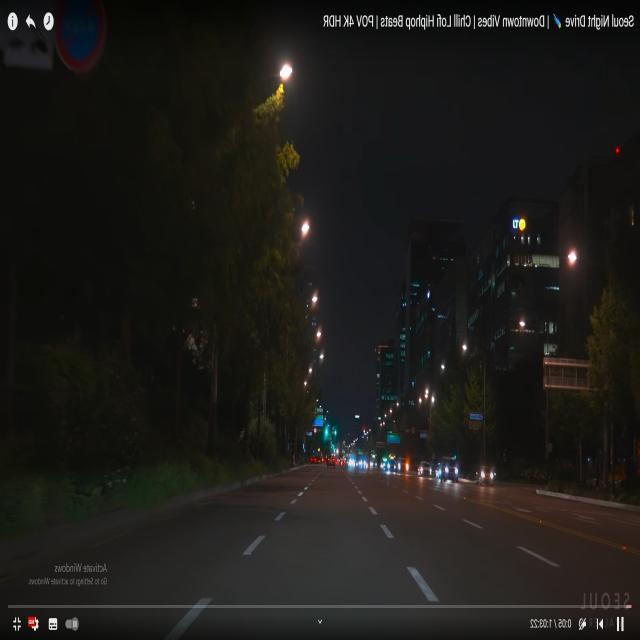headlights: (477, 470, 497, 487), (443, 464, 463, 480), (418, 467, 433, 477)
